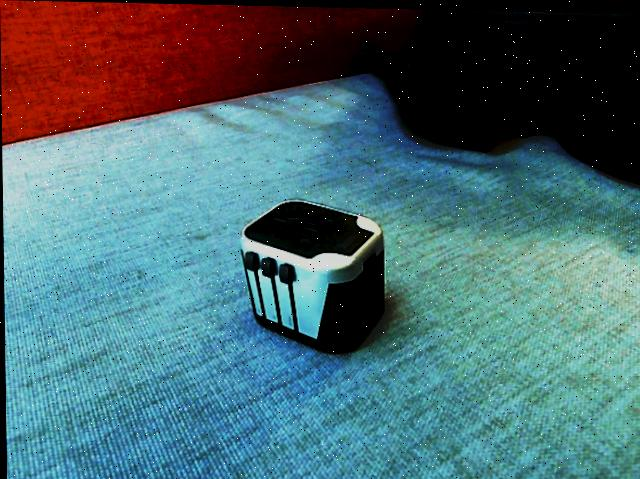adapter: (238, 196, 385, 353)
